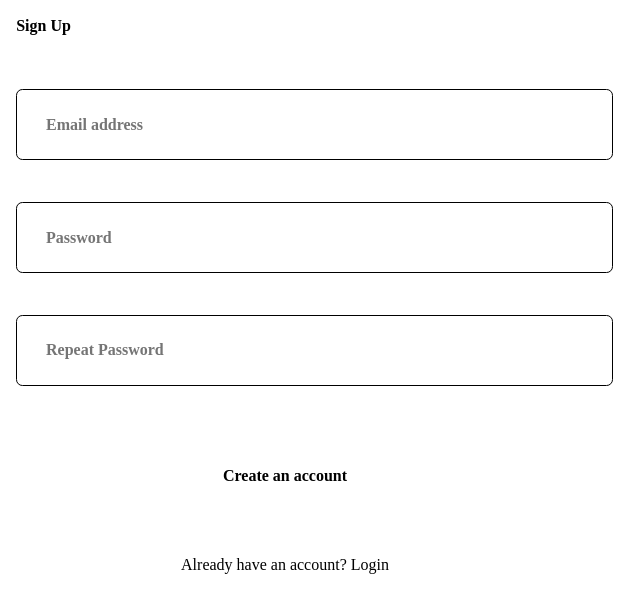
Test: Auth component testing › should change header to "Sing up" and swither to "singin" after clicking on switcher "sing up"
What coordinates should you click on to do the following:
click the text with test id "switcher"
I would click on:
 (370, 564)
Its box is [351,556,389,573].
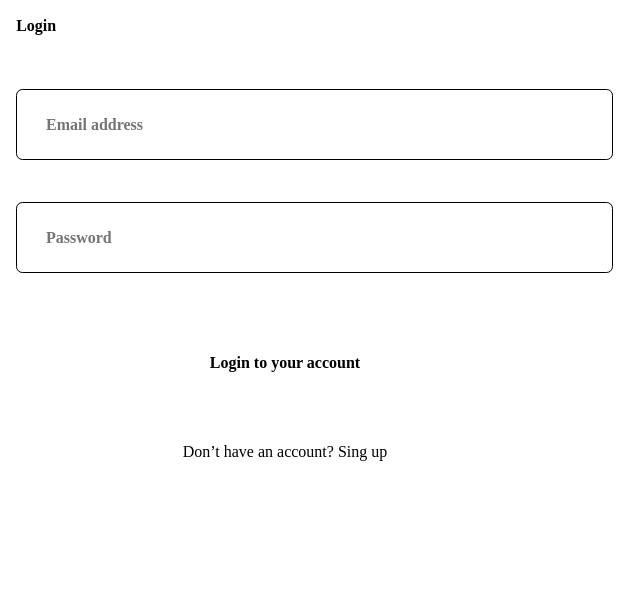
What coordinates should you click on to do the following:
click the text with test id "switcher"
I would click on:
 (363, 451)
Its box is [338,443,387,460].
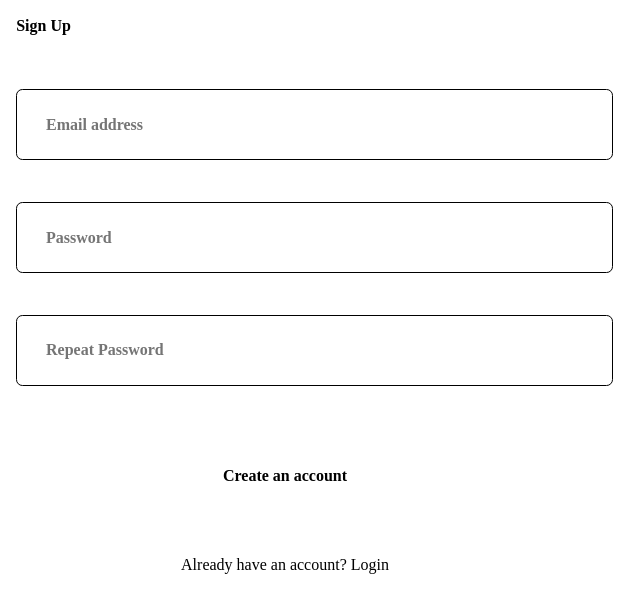
Expected: the heading reads "Sign Up", [16,17,71,34]
Expected: the text with test id "switcher" reads "Login", [351,556,389,573]
